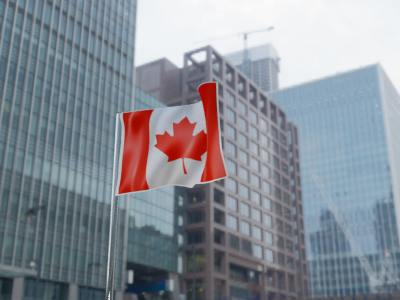Canada flag: (113, 81, 225, 195)
